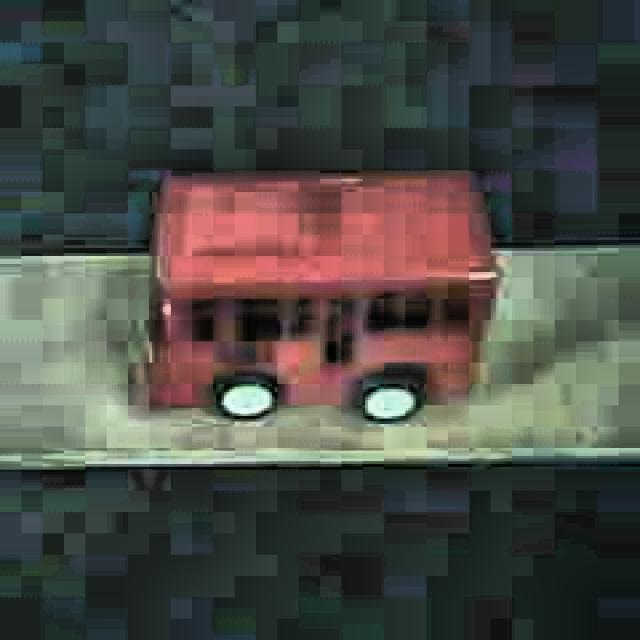bus: (145, 158, 500, 423)
